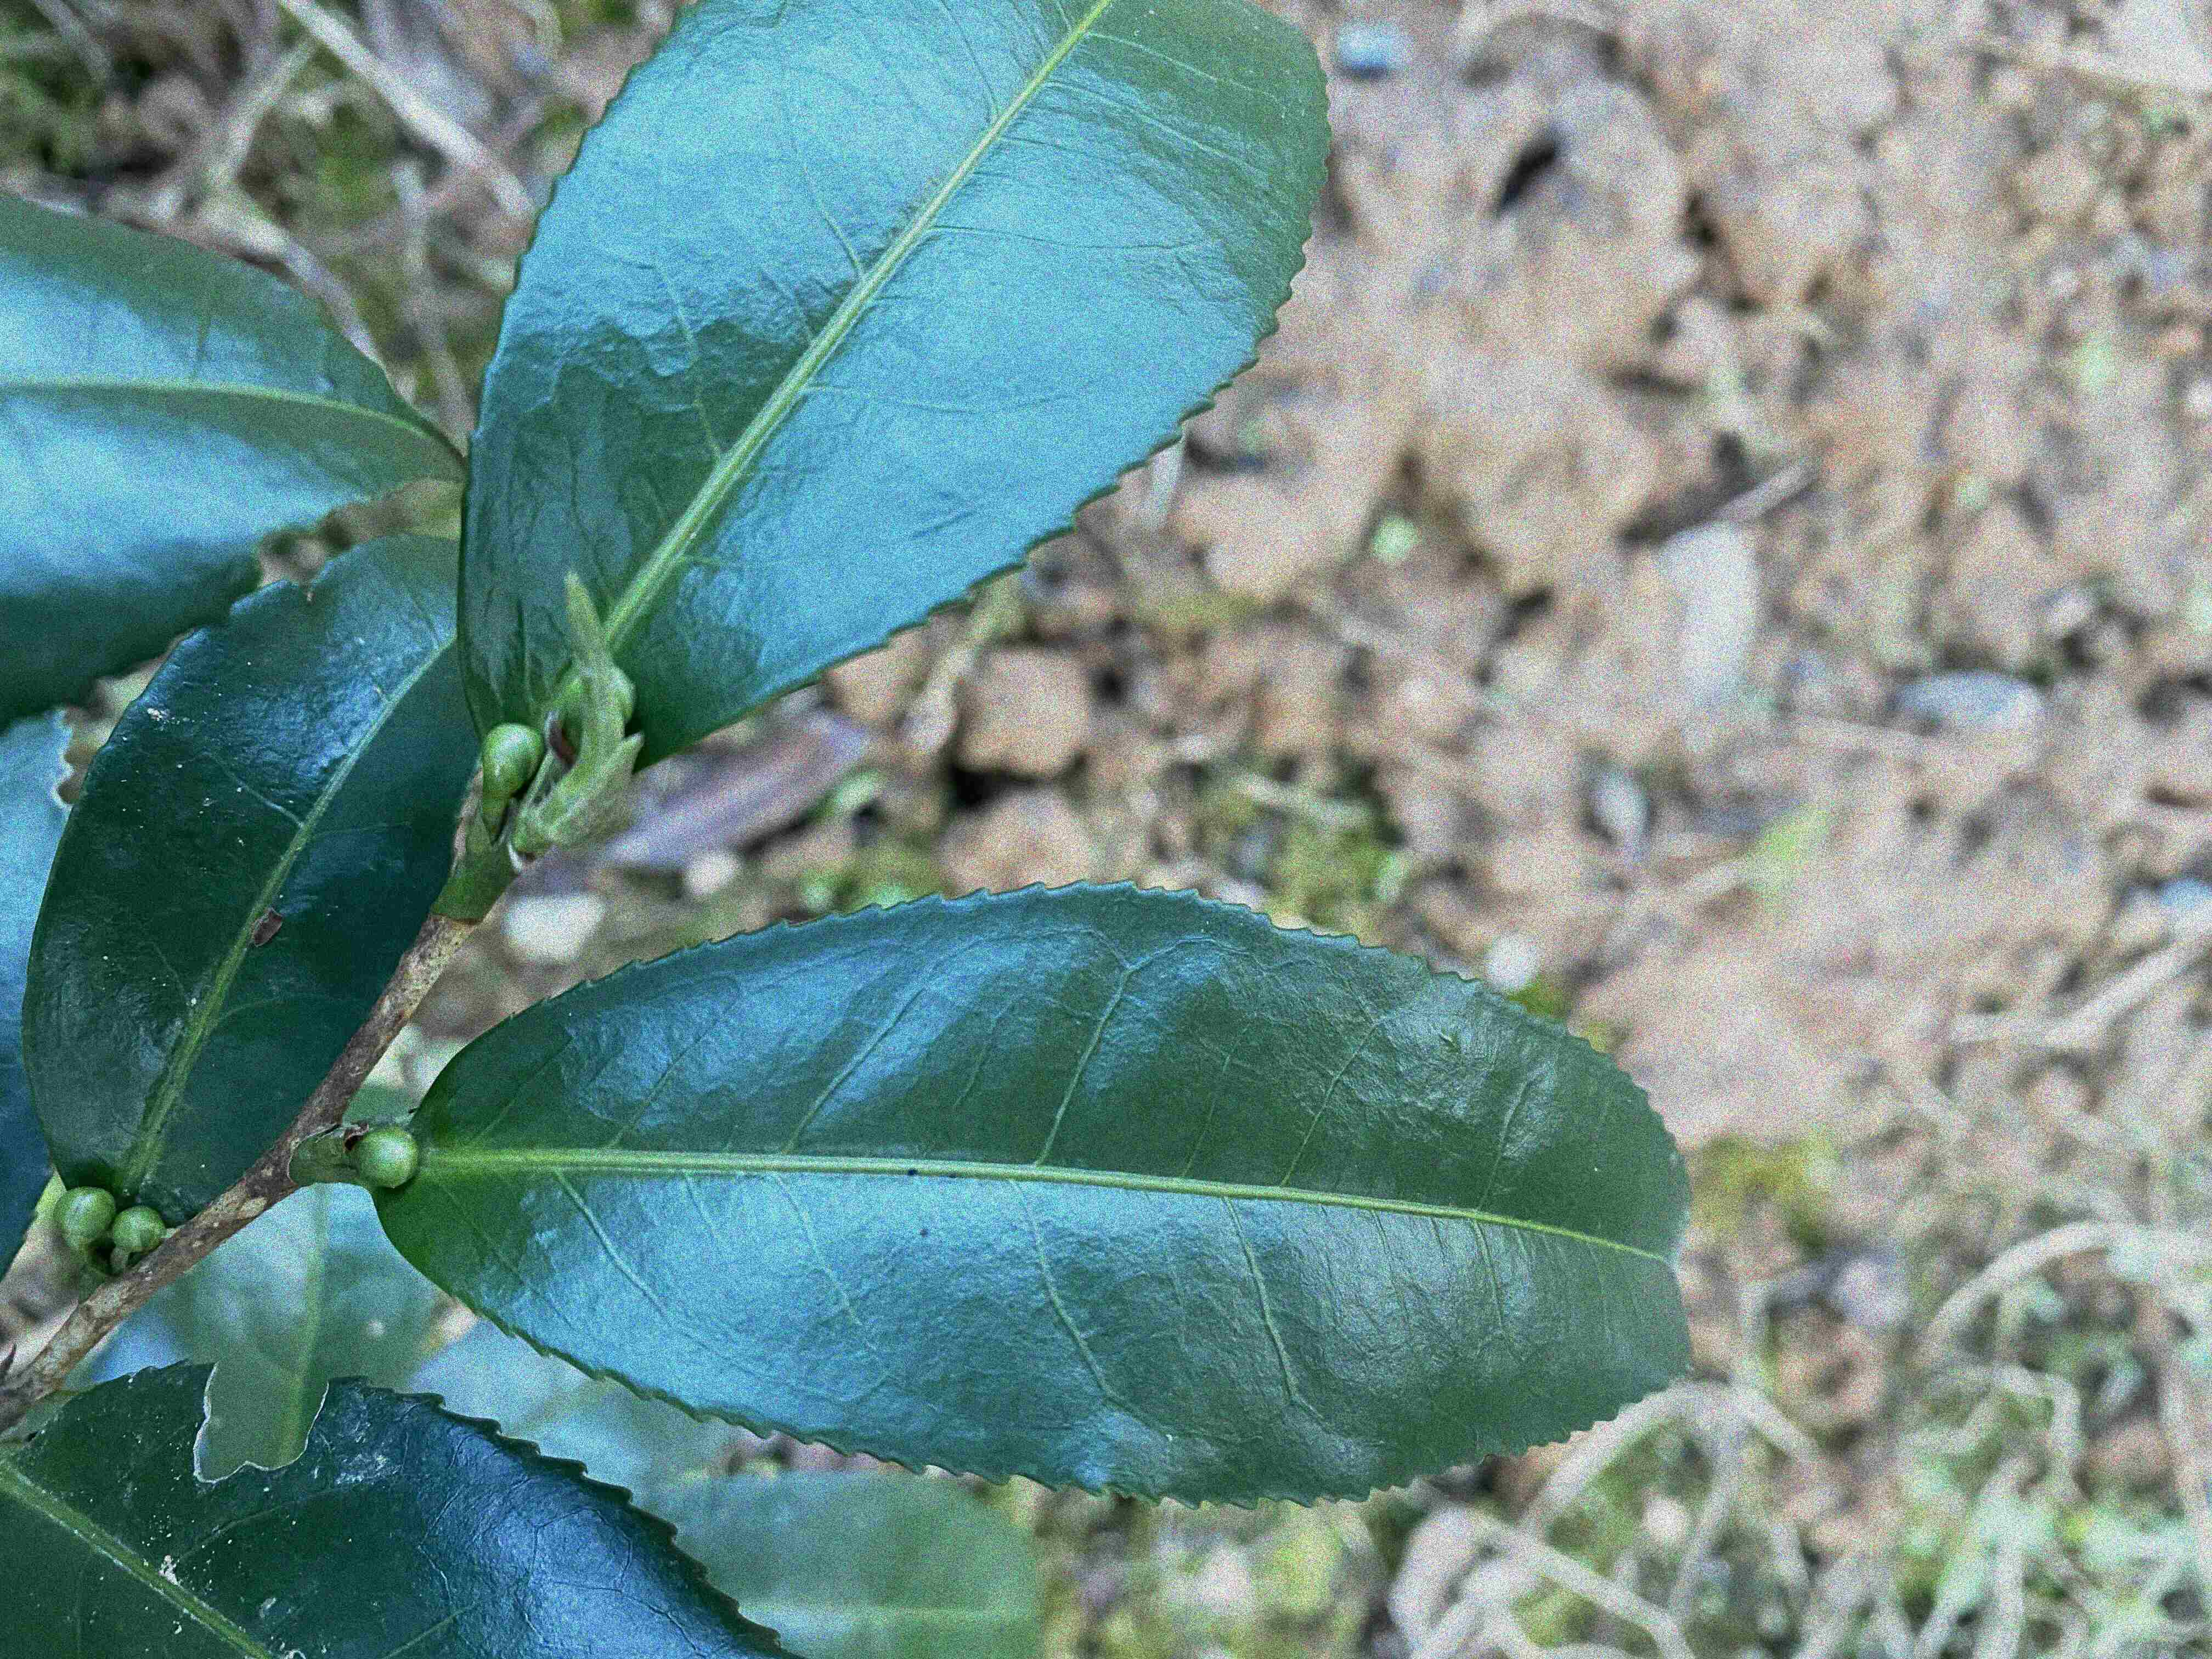chihuo_low: (5, 1361, 801, 1652)
healthy: (376, 875, 1696, 1509), (455, 3, 1327, 784), (5, 183, 472, 739)
